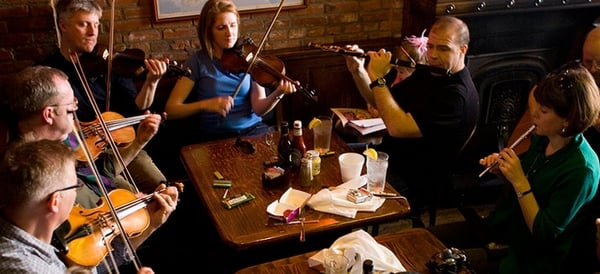pizza: (364, 150, 389, 195), (310, 117, 332, 153), (339, 153, 365, 182)
